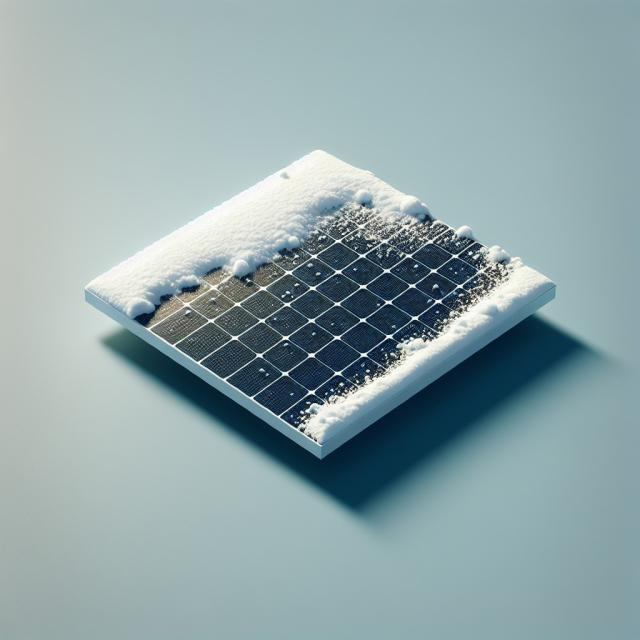Anomaly Solar Panel: (86, 66, 553, 500)
Snow: (65, 123, 453, 327), (268, 220, 554, 448), (447, 226, 474, 244)
